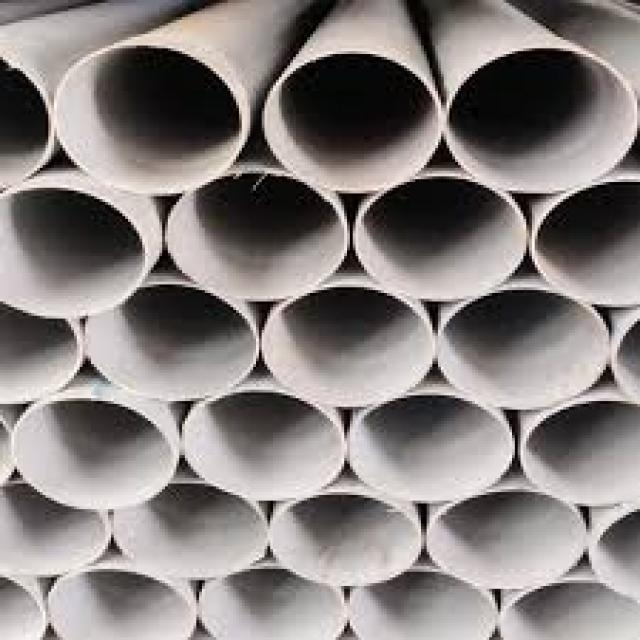pipe: (50, 43, 244, 194), (447, 47, 637, 190), (263, 50, 444, 193), (164, 173, 349, 300), (437, 287, 610, 414), (82, 282, 259, 404), (359, 174, 526, 301), (261, 287, 431, 406), (0, 187, 144, 319), (184, 388, 345, 501), (14, 398, 173, 511), (351, 392, 514, 501), (109, 484, 270, 581), (426, 491, 583, 589), (269, 490, 423, 585), (534, 179, 640, 308), (521, 399, 640, 505), (198, 566, 349, 640), (45, 567, 194, 640), (348, 568, 497, 638), (1, 482, 104, 577), (500, 579, 640, 639), (0, 304, 79, 403)
